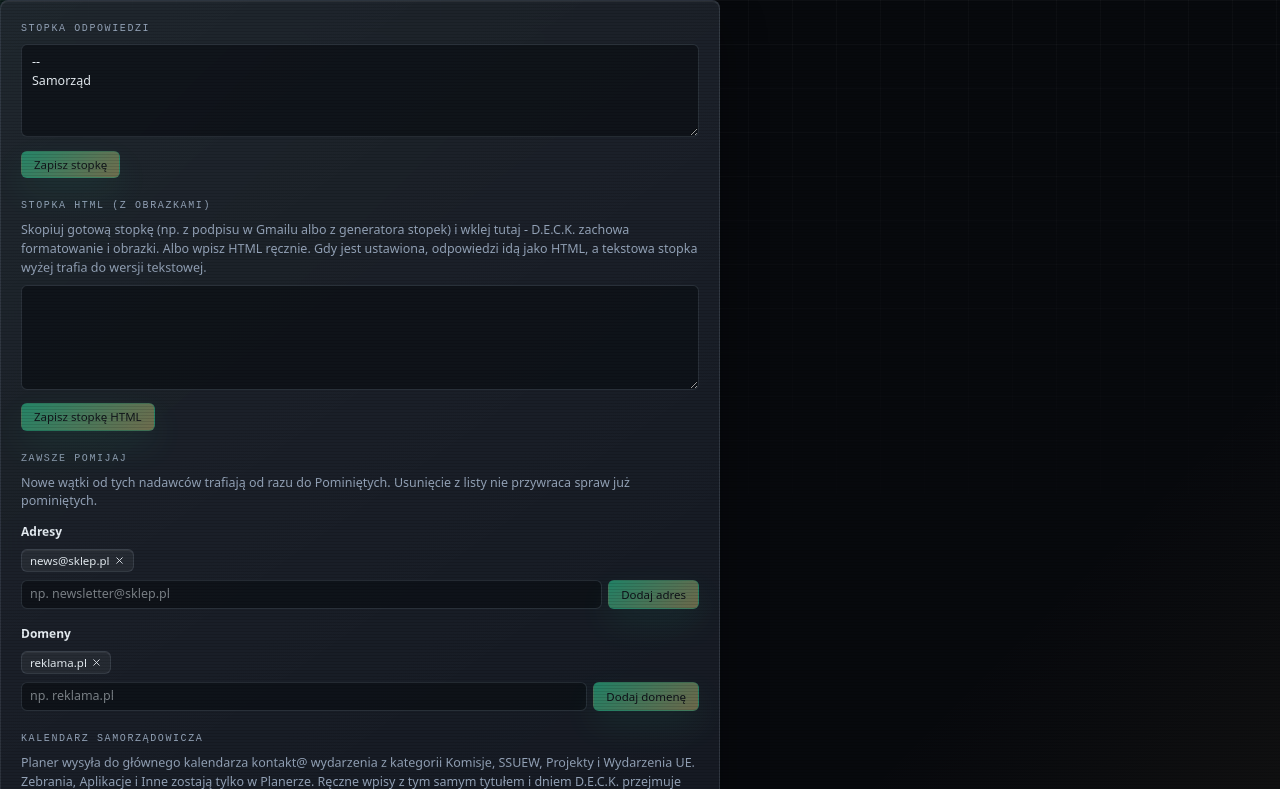
UstawieniaSkrzynki › pomijani: usunięcie i dodanie zapisują całą listę; odmowa serwera widoczna, wpis zostaje
Click the button named "Usuń news@sklep.pl" at (119, 561), box [114,555,124,566]
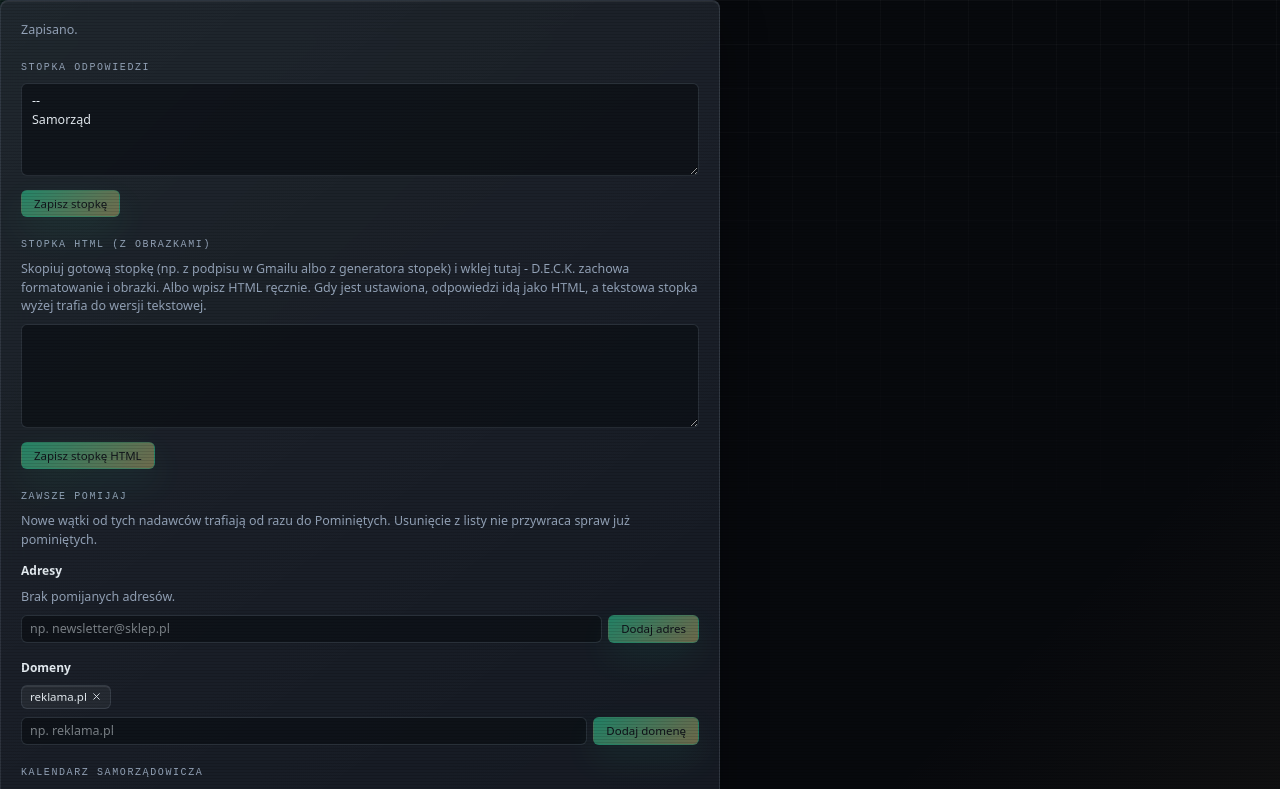
Type "gmail.com" into the field named "Domena do pomijania" at (304, 731), box [21,716,587,745]
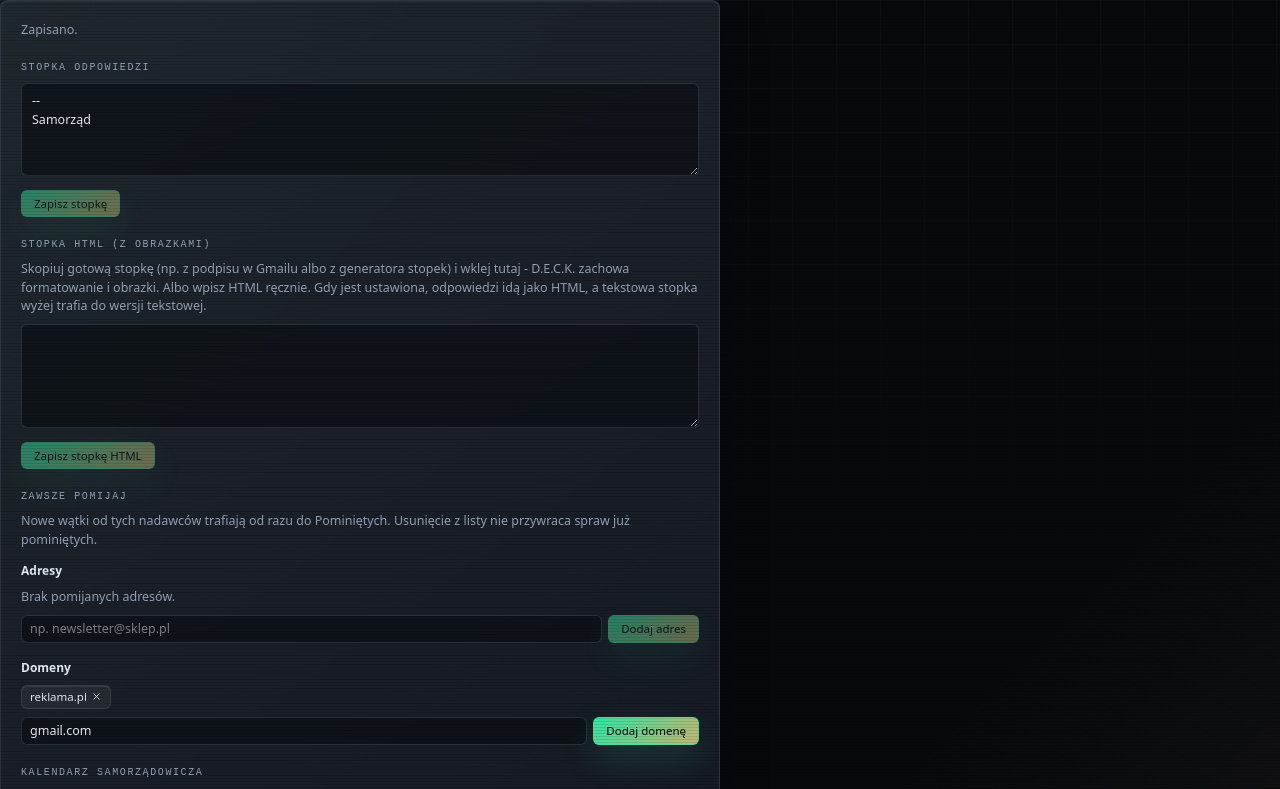
Click the button "Dodaj domenę" at (646, 731), box [593,716,699,745]
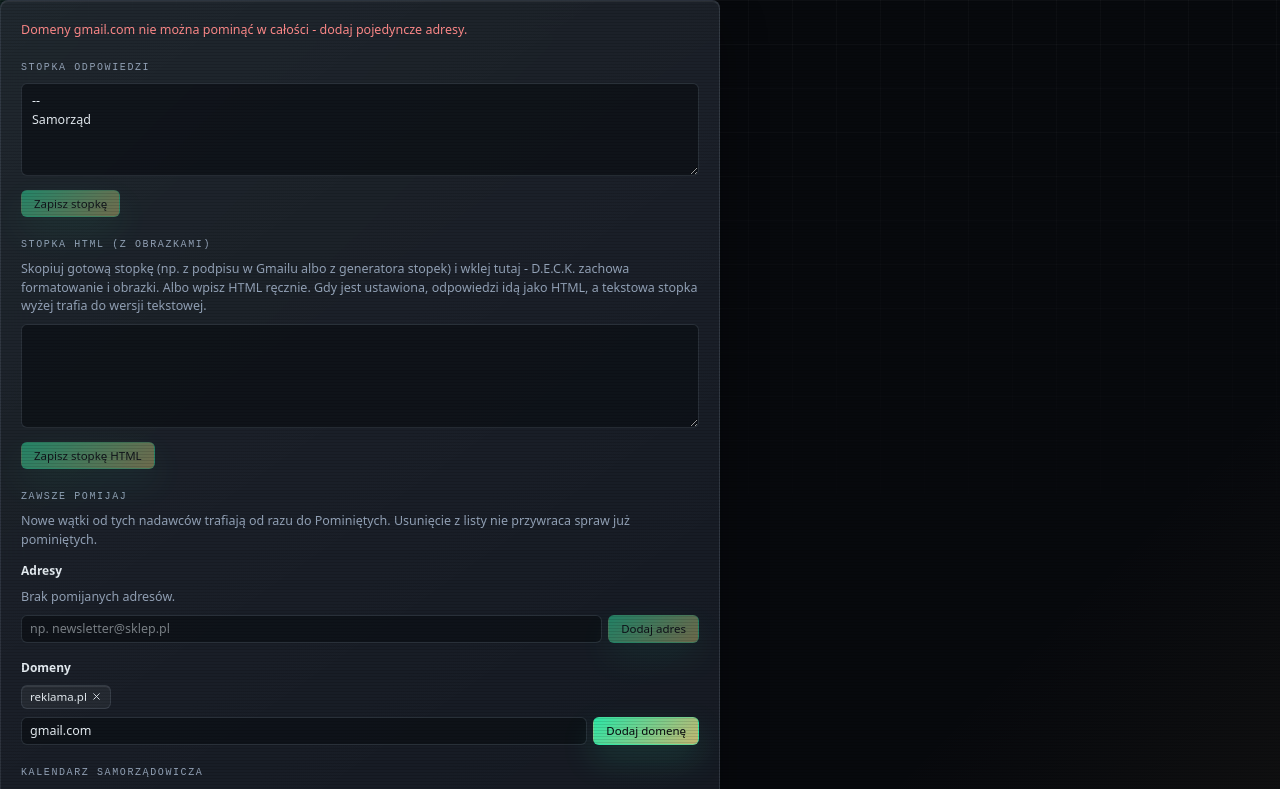
Result: the message shows "gmail.com" at [21,21,467,38]
